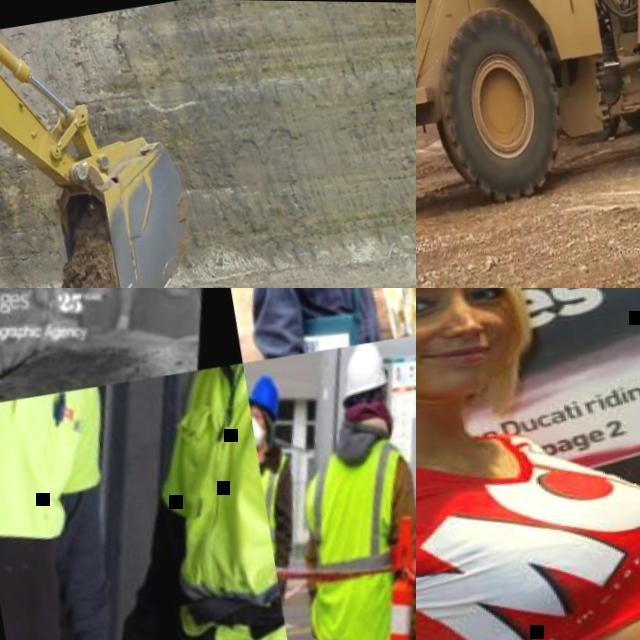helmet: (332, 334, 392, 404), (248, 372, 284, 420)
vest: (137, 360, 295, 640), (280, 431, 416, 640), (0, 381, 122, 548)
